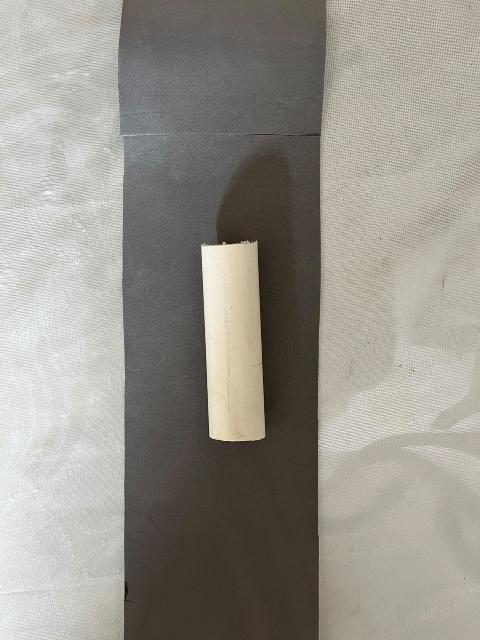PVC: (141, 188, 322, 491)
